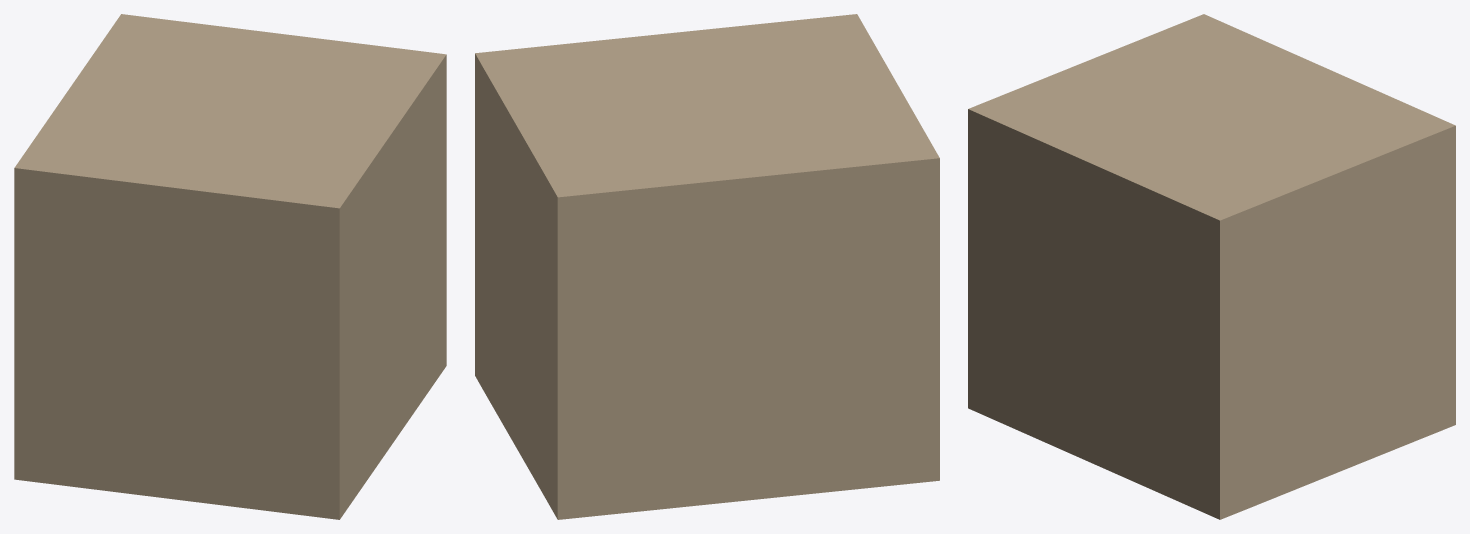
The model's file is bld_108162352.dae.
3 renders of one model, left to right at view 1: azimuth 30°, elevation 25°; view 2: azimuth 150°, elevation 25°; view 3: azimuth 270°, elevation 25°, orthographic. The views are drawn at different scales.
Visible parts, largest first — view 1: bld_108162352; view 2: bld_108162352; view 3: bld_108162352.
Boxes of the visible parts, box(x1,y1,x2,y2) form: bld_108162352: box(14, 14, 446, 519); bld_108162352: box(475, 14, 939, 519); bld_108162352: box(968, 14, 1455, 519).
Size of the model in its own units: 11.84 by 11.81 by 8.
